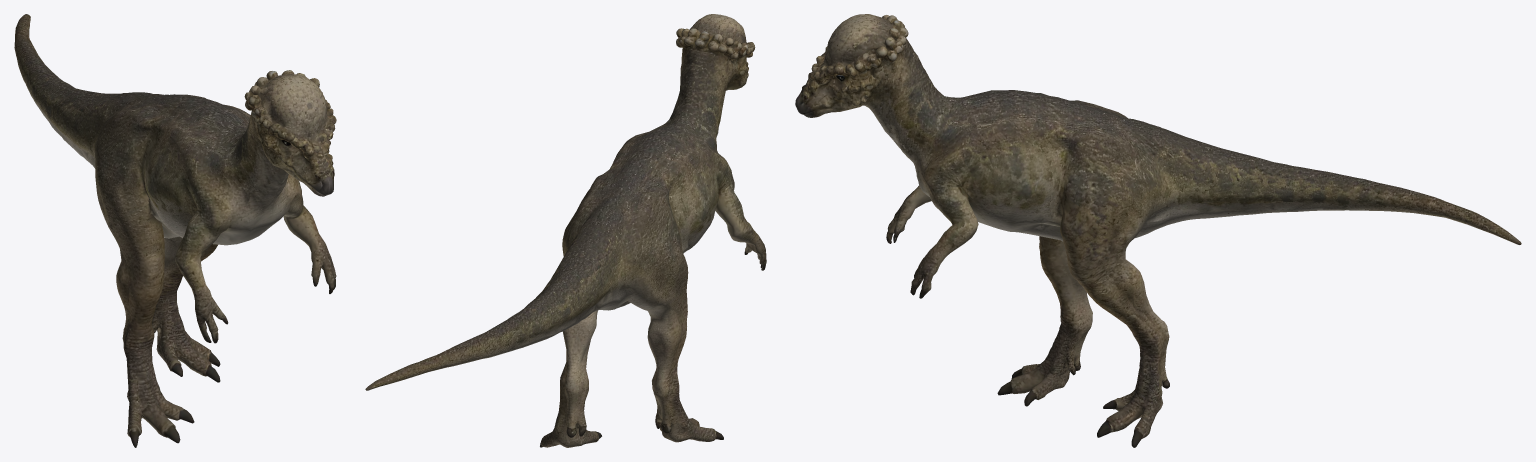
File: pachycephalosaurus.glb
3 renders of one model, left to right at view 1: azimuth 30°, elevation 25°; view 2: azimuth 150°, elevation 25°; view 3: azimuth 270°, elevation 25°, orthographic. The views are drawn at different scales.
Parts seen in each view (by area): view 1: dino; view 2: dino; view 3: dino.
Boxes of the visible parts, x1=… form: dino: x1=14, y1=14, x2=336, y2=447; dino: x1=365, y1=14, x2=766, y2=447; dino: x1=795, y1=14, x2=1521, y2=447.
Size of the model in its own units: 1.12 by 2.74 by 4.5.
Materials: 1 (1 with a texture image).
